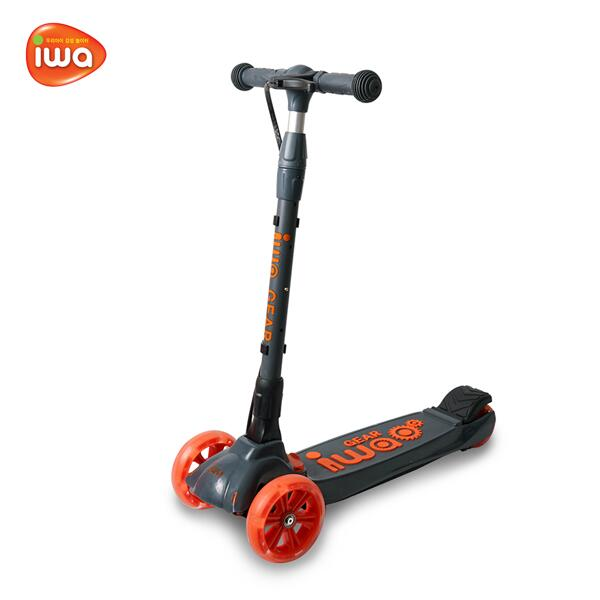scooter: (168, 61, 497, 567)
